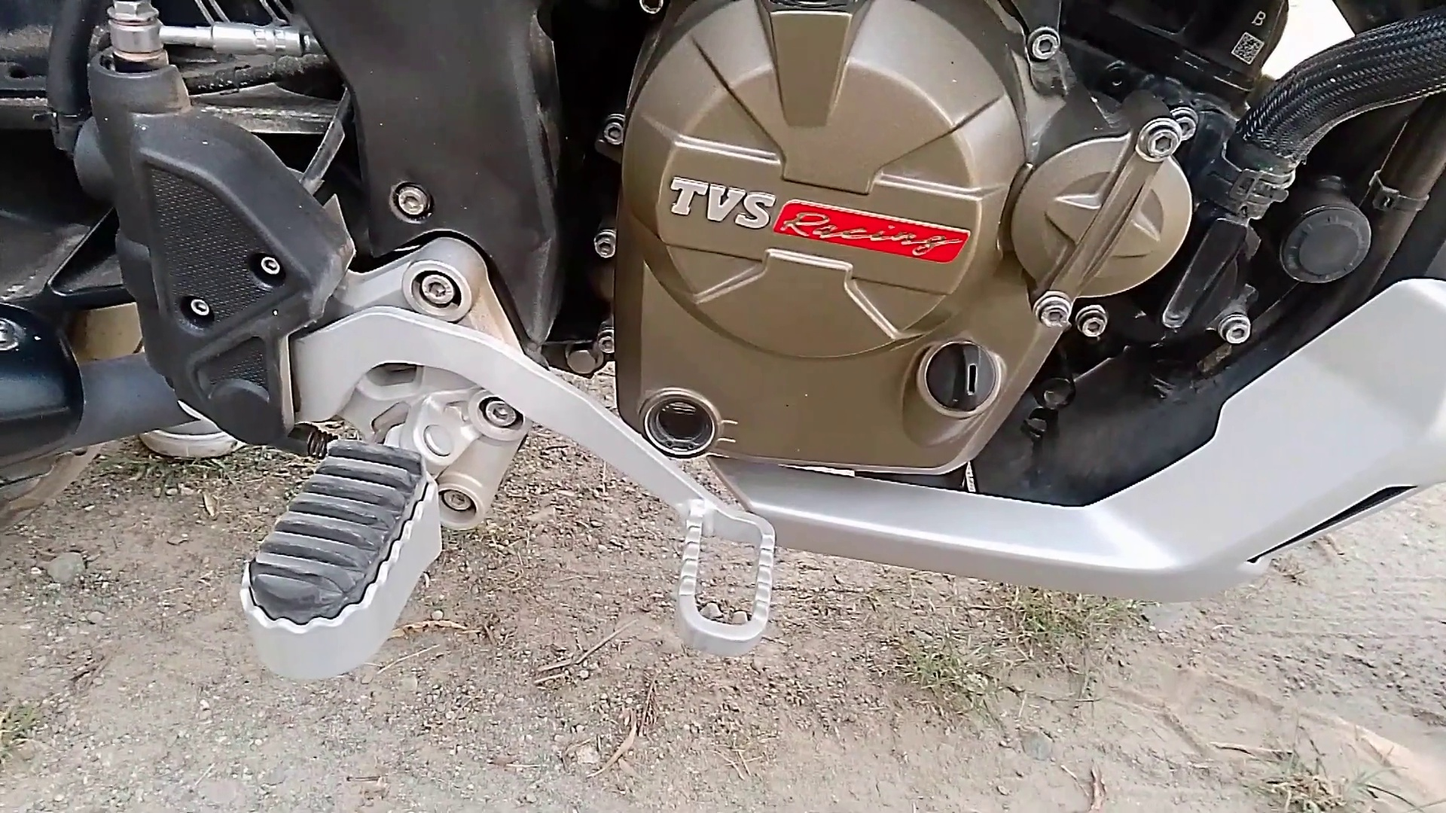bike-engine: (612, 0, 1192, 468)
bike-engine-level: (641, 379, 719, 453)
bike-oil-cap: (908, 332, 1002, 422)
